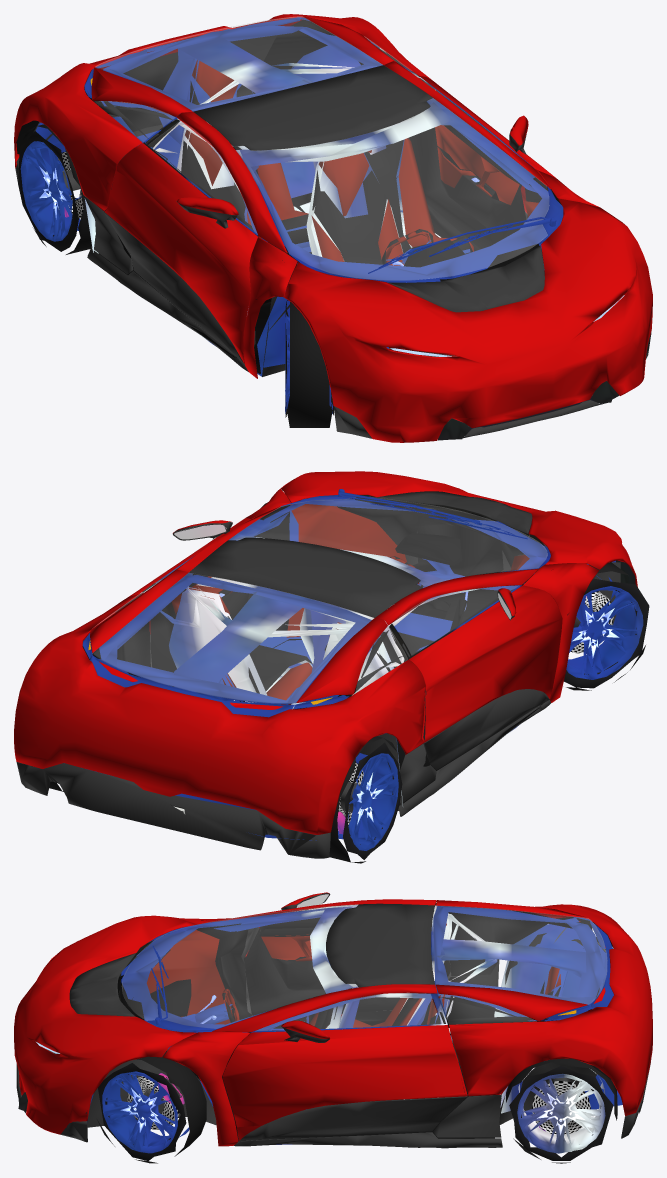
Rendered from konsept.glb.
The picture shows the model from 3 angles, top to bottom: view 1: azimuth 30°, elevation 25°; view 2: azimuth 150°, elevation 25°; view 3: azimuth 270°, elevation 25°; orthographic projection. The views are drawn at different scales.
Parts seen in each view (by area): view 1: BodyHood, BodyWindshield, BodyRearwindow, BodyDoorRColor1, BodyRearPanelsColor1, BodyRoofPanel, BodyWindshieldGasket, InteriorSeatsColor1, BodyPillars, InteriorSeatsColor2, InteriorPillar, InteriorFloor (+23 smaller); view 2: BodyRearPanelsColor1, BodyRearwindow, BodyWindshield, BodyPanelsColor2, BodyDoorRColor1, BodyRoofPanel, BodyHood, BodyPillars, InteriorPillar, InteriorDashMid, InteriorRearHatch, WheelFrontRRim (+22 smaller); view 3: BodyRearPanelsColor1, BodyWindshield, BodyDoorLColor1, BodyHood, BodyRearwindow, BodyRoofPanel, BodyPillars, BodyDoorLColor2, BodyPanelsColor2, BodyWindshieldGasket, InteriorMid, WheelRearLRim (+27 smaller).
Boxes of the visible parts, box(x1,y1,x2,y2) form: BodyHood: box(284, 198, 652, 442); BodyWindshield: box(234, 98, 549, 280); BodyRearwindow: box(95, 16, 382, 110); BodyDoorRColor1: box(104, 143, 257, 363); BodyRearPanelsColor1: box(14, 14, 435, 211); BodyRoofPanel: box(193, 65, 432, 150); BodyWindshieldGasket: box(239, 102, 563, 282); InteriorSeatsColor1: box(185, 60, 473, 265); BodyPillars: box(176, 61, 599, 378); InteriorSeatsColor2: box(181, 81, 471, 264); InteriorPillar: box(159, 37, 416, 171); InteriorFloor: box(35, 39, 605, 438); BodyRearPanelsColor1: box(14, 569, 425, 834); BodyRearwindow: box(92, 573, 373, 703); BodyWindshield: box(229, 497, 547, 587); BodyPanelsColor2: box(16, 700, 550, 858); BodyDoorRColor1: box(409, 585, 562, 742); BodyRoofPanel: box(189, 537, 422, 617); BodyHood: box(278, 471, 637, 587); BodyPillars: box(174, 489, 598, 702); InteriorPillar: box(174, 577, 420, 701); InteriorDashMid: box(337, 500, 523, 622); InteriorRearHatch: box(99, 575, 383, 704); WheelFrontRRim: box(566, 575, 643, 679); BodyRearPanelsColor1: box(436, 900, 652, 1115); BodyWindshield: box(122, 904, 357, 1028); BodyDoorLColor1: box(222, 1025, 467, 1140); BodyHood: box(14, 915, 196, 1134); BodyRearwindow: box(432, 905, 607, 1004); BodyRoofPanel: box(326, 903, 434, 987); BodyPillars: box(163, 899, 437, 1146); BodyDoorLColor2: box(239, 1096, 467, 1140); BodyPanelsColor2: box(16, 1008, 651, 1148); BodyWindshieldGasket: box(121, 906, 352, 1032); InteriorMid: box(191, 920, 499, 1143); WheelRearLRim: box(517, 1067, 605, 1153).
Bounding box in the file's own units: 2.54 × 1.15 × 4.35.
Materials: 23 (6 with a texture image).
